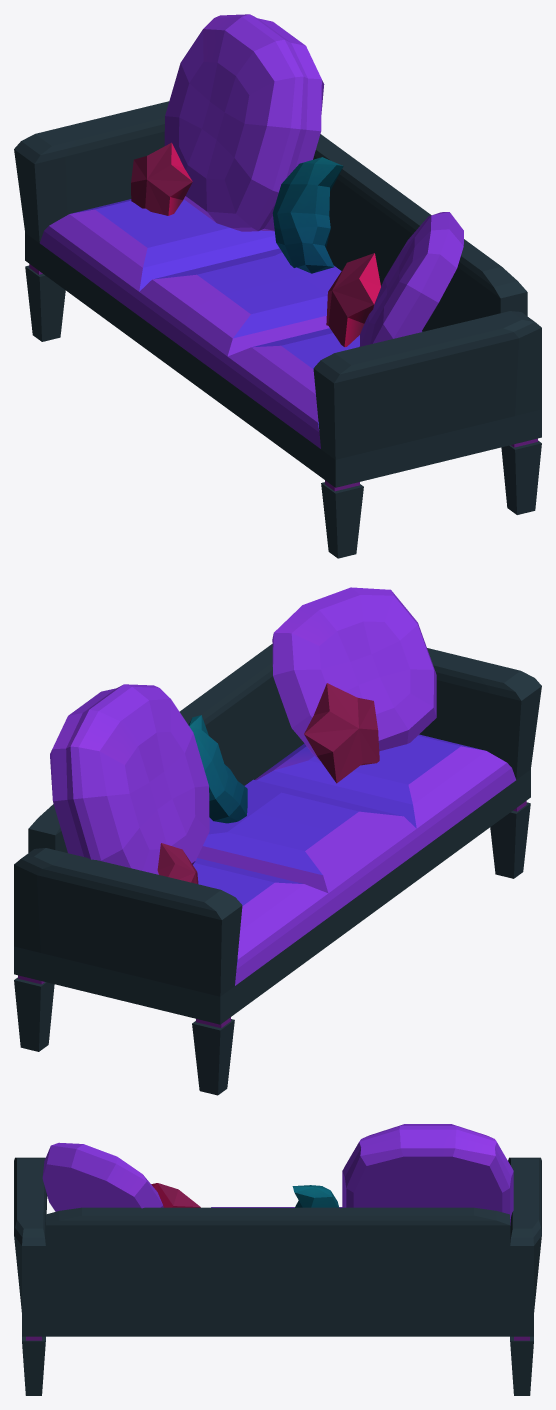
Rendered from Interior_StarSofa_Purple.fbx.
3 views of the same model, one above another, from view 1: azimuth 30°, elevation 25°; view 2: azimuth 150°, elevation 25°; view 3: azimuth 270°, elevation 25° (orthographic). The views are drawn at different scales.
Parts seen in each view (by area): view 1: Cube.241; view 2: Cube.241; view 3: Cube.241.
Boxes of the visible parts, <box> form: Cube.241: <box>14,14,541,558</box>; Cube.241: <box>14,587,541,1095</box>; Cube.241: <box>14,1124,541,1395</box>.
Size of the model in its own units: 77.51 by 108 by 202.
